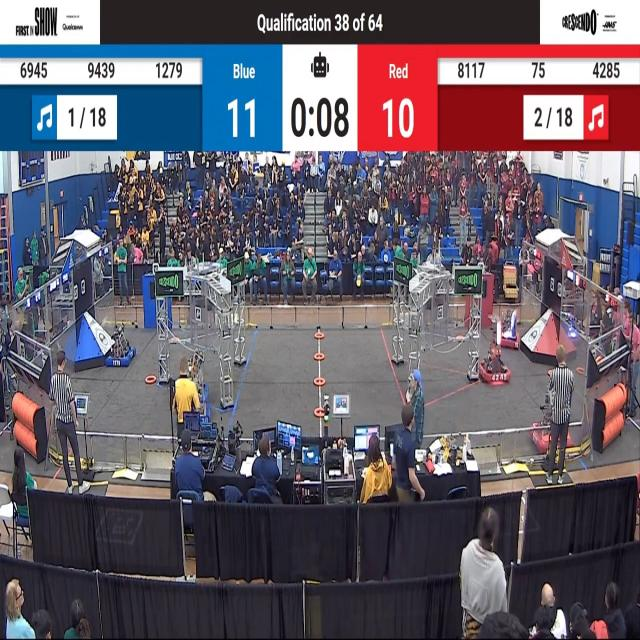Robot: (527, 356, 576, 457), (478, 307, 514, 392), (490, 300, 528, 345), (103, 321, 135, 372), (200, 357, 210, 402)
